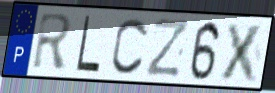6: (189, 19, 223, 82)
C: (109, 15, 151, 76)
L: (74, 14, 102, 75)
R: (30, 11, 75, 72)
X: (217, 21, 267, 84)
Z: (144, 16, 191, 78)
